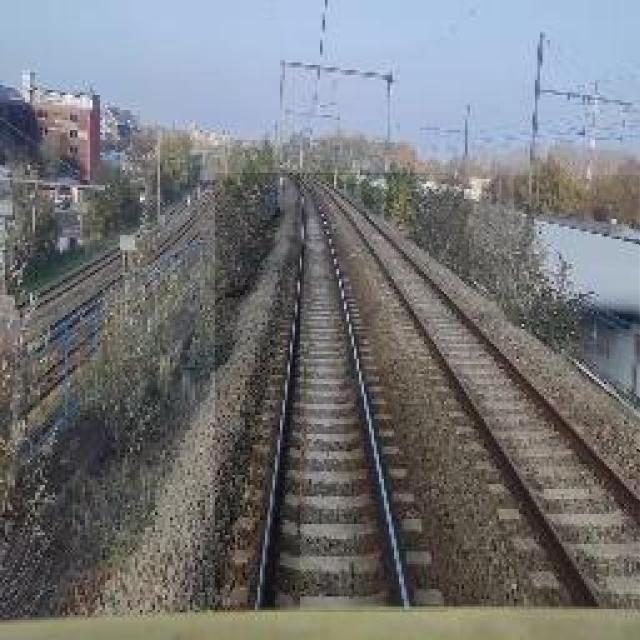rail: (302, 177, 640, 611), (217, 174, 449, 613)
